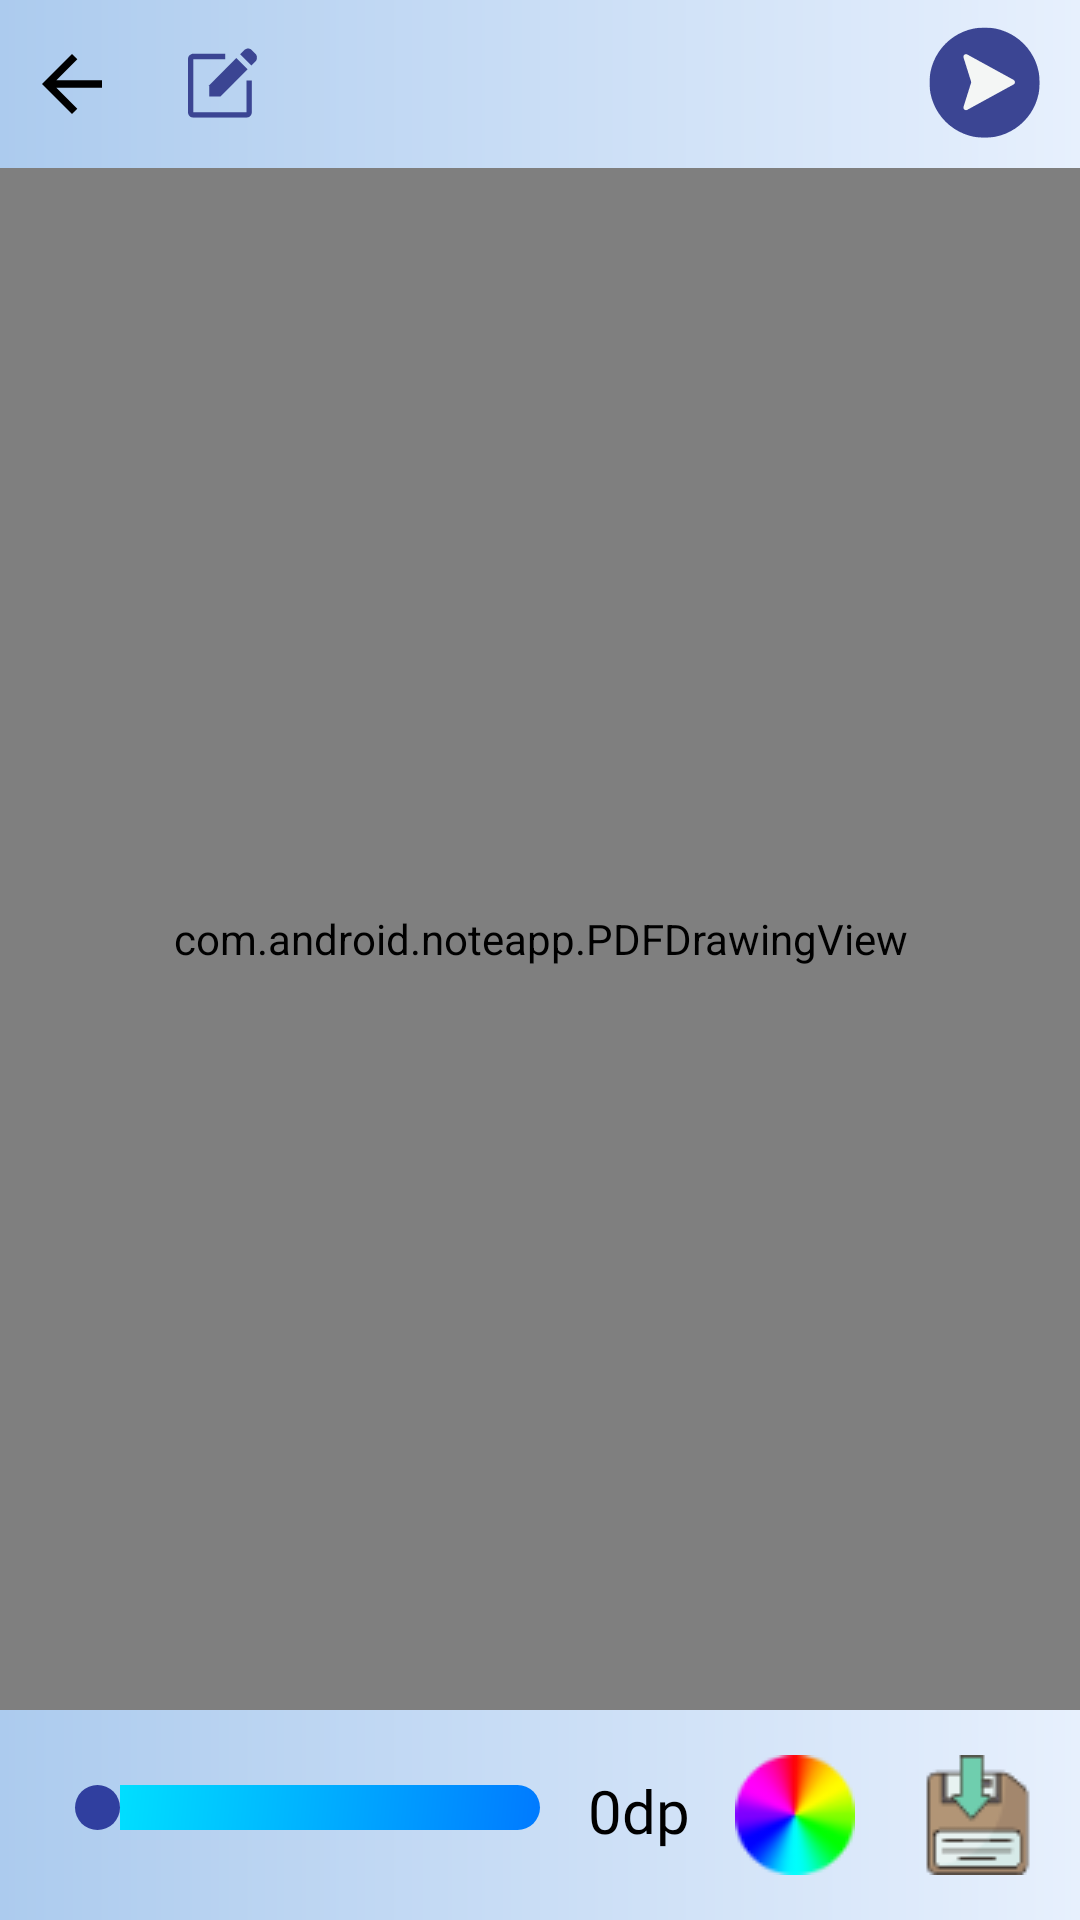

Icon bounding boxes for this 1080px×1920px phone screenshot, format (x1, y1, x2, y2):
back: (42, 54, 102, 114)
edit: (188, 48, 257, 118)
palette: (735, 1755, 855, 1875)
save: (926, 1755, 1030, 1875)
